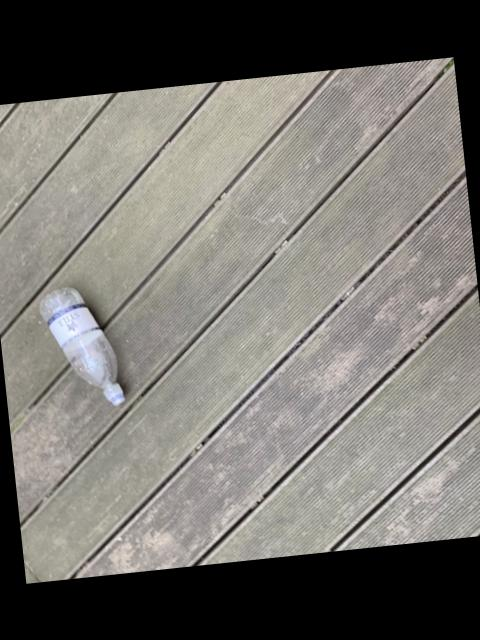plastic: (39, 288, 123, 406)
